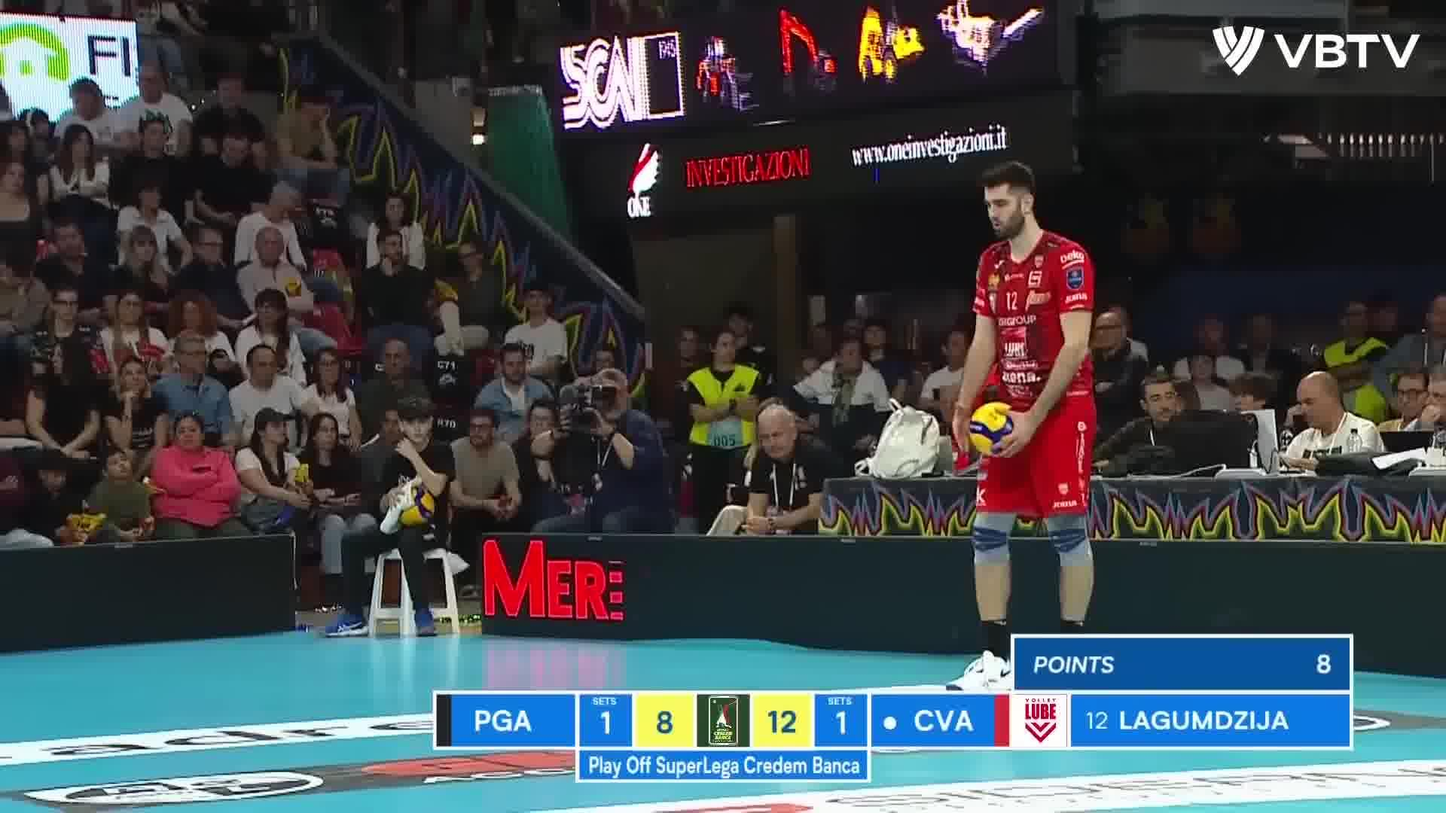balls: (965, 403, 1028, 458)
